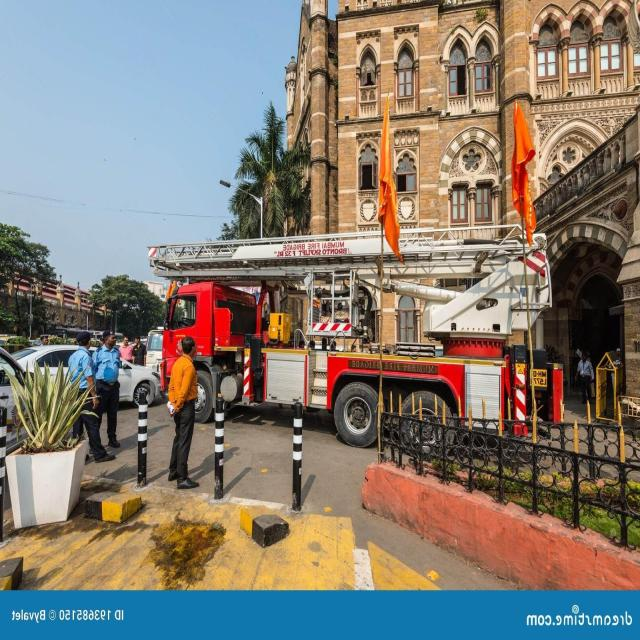emergency: (150, 226, 551, 446)
